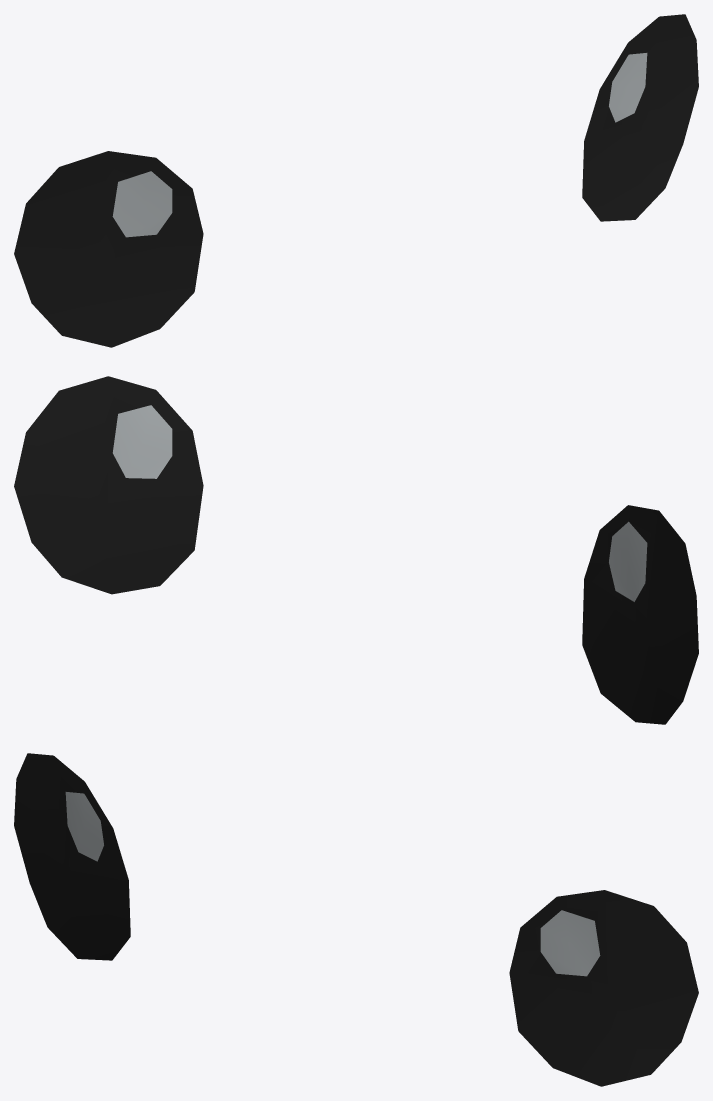
The model's file is Eye_10.fbx.
3 views of the same model, one above another, from view 1: azimuth 30°, elevation 25°; view 2: azimuth 150°, elevation 25°; view 3: azimuth 330°, elevation 25° (orthographic).
Visible parts, largest first — view 1: Eye_10; view 2: Eye_10; view 3: Eye_10.
Part boxes in pixels (x1,y1,x2,y2): Eye_10: (14,14,698,347); Eye_10: (14,376,698,724); Eye_10: (14,753,698,1086).
Size of the model in its own units: 29.29 by 8.48 by 2.94.
